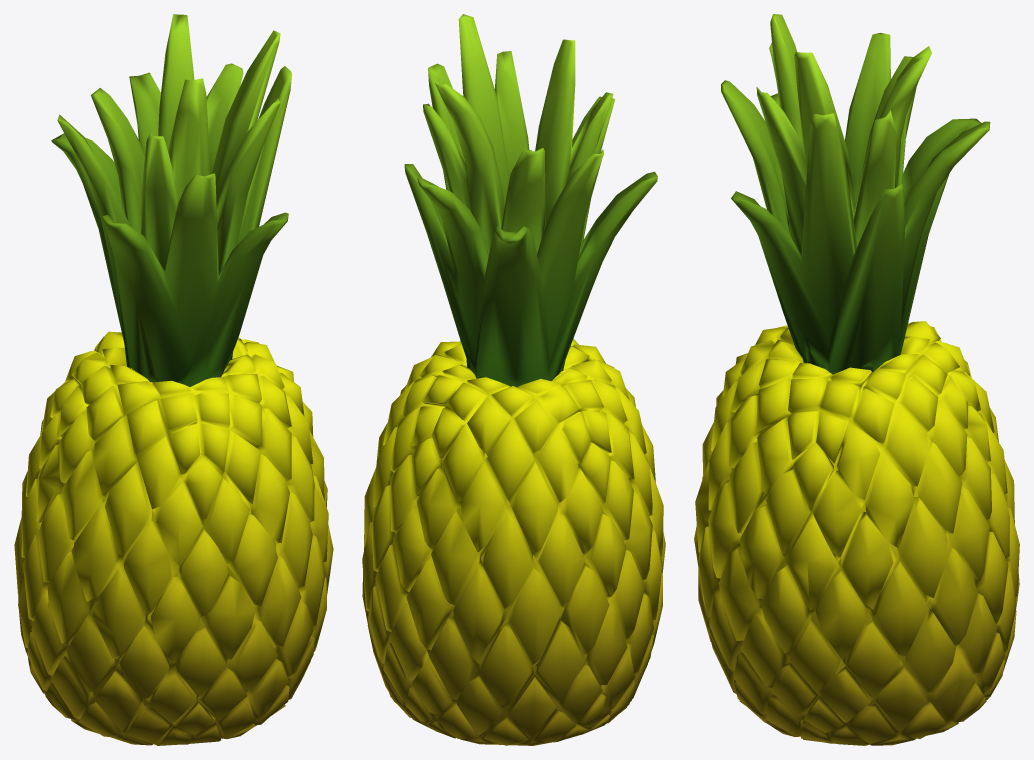
Rendered from pineapple-v2-transformed.glb.
3 renders of one model, left to right at view 1: azimuth 30°, elevation 25°; view 2: azimuth 150°, elevation 25°; view 3: azimuth 270°, elevation 25°, orthographic. The views are drawn at different scales.
Visible parts, largest first — view 1: pineapple; view 2: pineapple; view 3: pineapple.
Part boxes in pixels (x1,y1,x2,y2): pineapple: (14,14,333,745); pineapple: (362,14,665,745); pineapple: (694,14,1019,745).
Size of the model in its own units: 4.13 by 9.71 by 4.13.
Materials: 1 (1 with a texture image).
